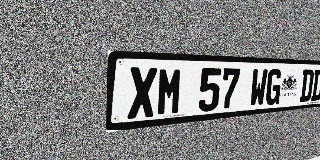5: (198, 68, 222, 112)
7: (219, 68, 240, 110)
D: (299, 69, 314, 102), (311, 69, 320, 101)
G: (265, 69, 283, 106)
M: (156, 67, 183, 116)
W: (249, 69, 268, 107)
X: (127, 67, 157, 119)
